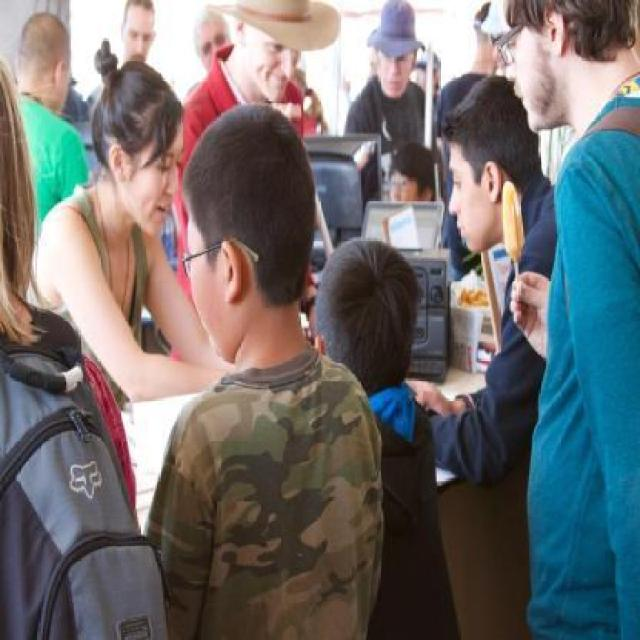backpack: (0, 341, 169, 640)
